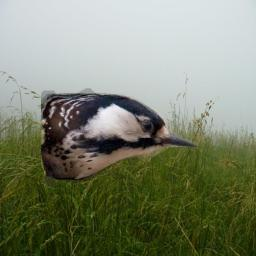Woodpecker: (41, 86, 198, 184)
